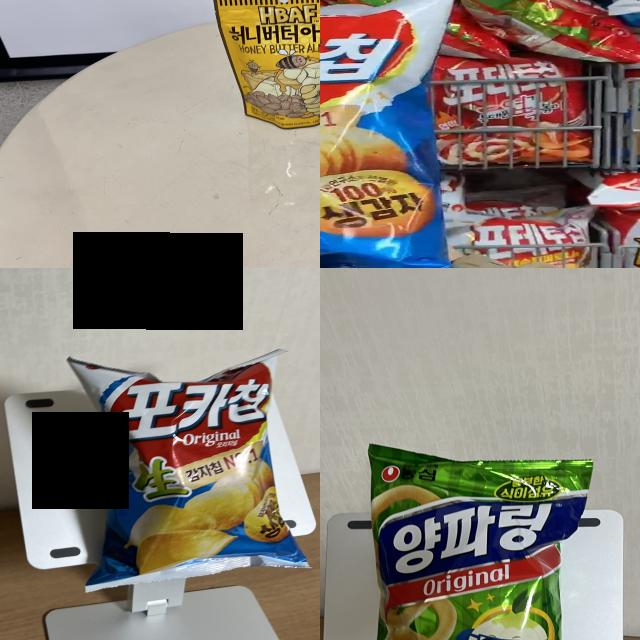honeyAmond: (229, 0, 320, 123)
onionRing: (379, 462, 559, 640)
pokaChip: (320, 12, 444, 268), (113, 382, 269, 566)
